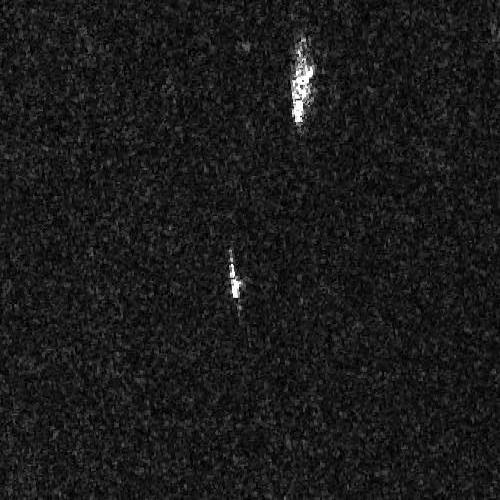ship: (290, 44, 315, 126), (228, 251, 241, 301)
